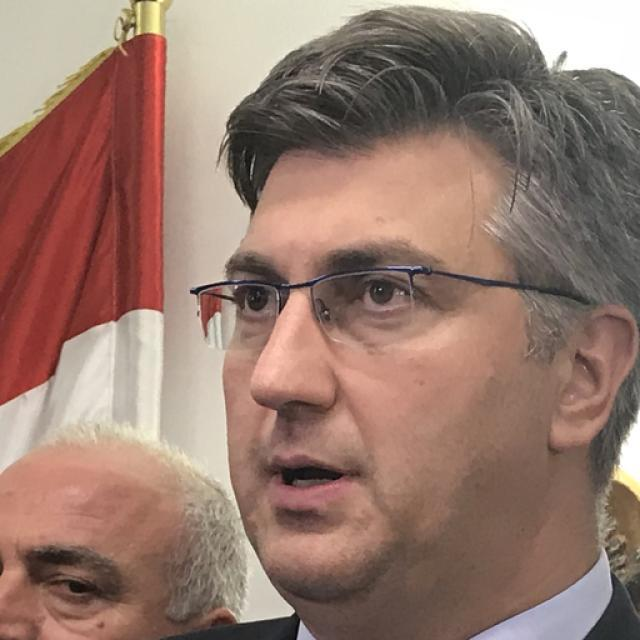anger: (2, 425, 245, 640)
surprise: (217, 136, 547, 603)
